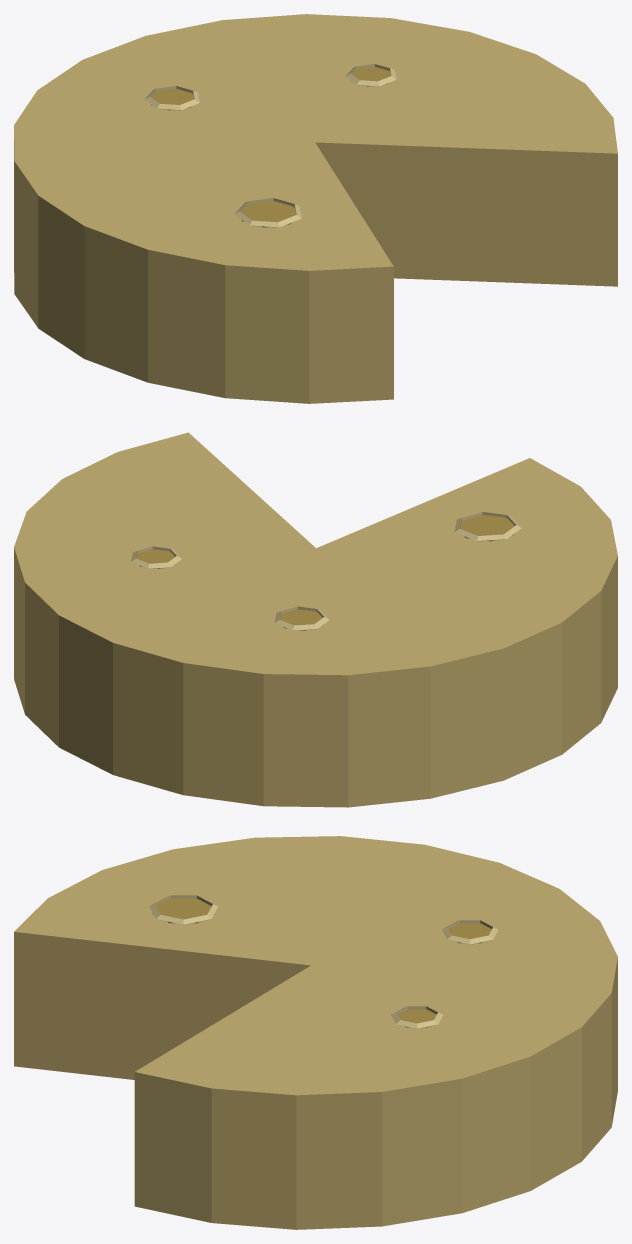
File: cheese_cow.glb
3 views of the same model, one above another, from view 1: azimuth 30°, elevation 25°; view 2: azimuth 150°, elevation 25°; view 3: azimuth 270°, elevation 25° (orthographic).
Parts seen in each view (by area): view 1: geometry; view 2: geometry; view 3: geometry.
Part boxes in pixels (x1=…): geometry: x1=14, y1=14, x2=617, y2=403; geometry: x1=14, y1=432, x2=617, y2=807; geometry: x1=14, y1=836, x2=617, y2=1229.
Size of the model in its own units: 0.5783 by 0.145 by 0.5695.
